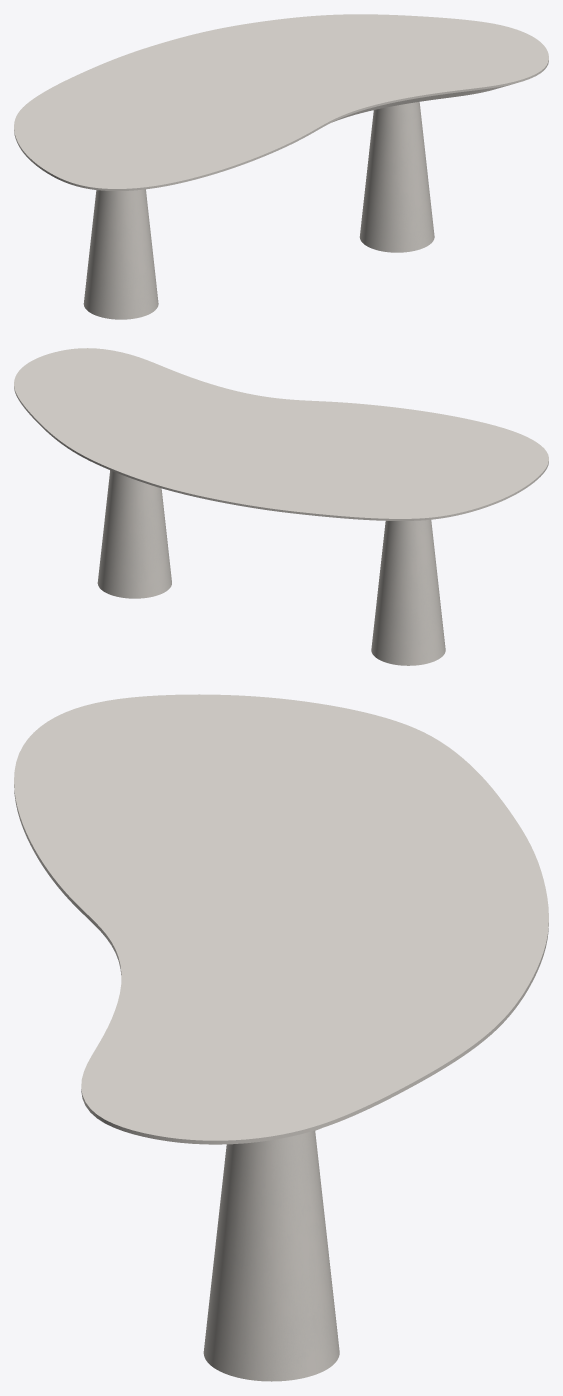
The model's file is pearlwhite_leaf1_facet_pebble.glb.
3 renders of one model, top to bottom at view 1: azimuth 30°, elevation 25°; view 2: azimuth 150°, elevation 25°; view 3: azimuth 270°, elevation 25°, orthographic. The views are drawn at different scales.
Visible parts, largest first — view 1: facet_leaf1, pebble; view 2: facet_leaf1, pebble; view 3: facet_leaf1, pebble.
Boxes of the visible parts, x1=… form: facet_leaf1: x1=14, y1=14, x2=548, y2=190; pebble: x1=83, y1=102, x2=434, y2=319; facet_leaf1: x1=14, y1=348, x2=548, y2=520; pebble: x1=97, y1=470, x2=445, y2=665; facet_leaf1: x1=14, y1=694, x2=548, y2=1144; pebble: x1=203, y1=1128, x2=339, y2=1381.
Bounding box in the file's own units: 7.5 × 2.53 × 3.8.
Materials: 1 (1 with a texture image).
